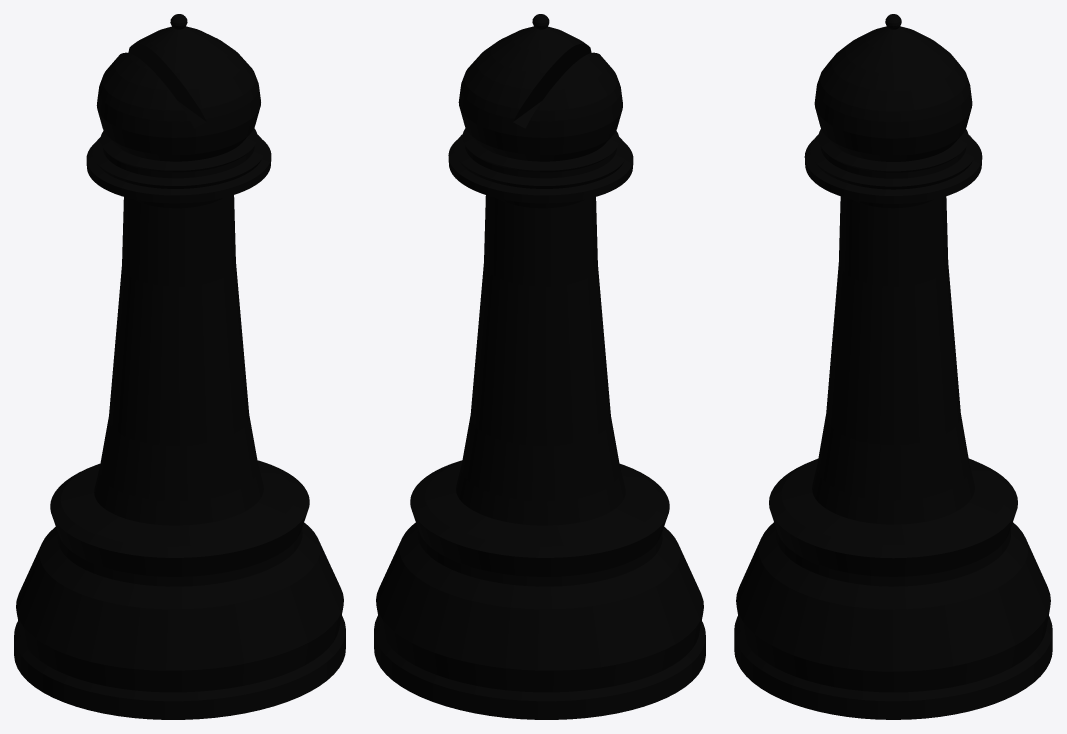
Rendered from BishopB.glb.
3 renders of one model, left to right at view 1: azimuth 30°, elevation 25°; view 2: azimuth 150°, elevation 25°; view 3: azimuth 270°, elevation 25°, orthographic.
Parts seen in each view (by area): view 1: RookA8; view 2: RookA8; view 3: RookA8.
Part boxes in pixels (<box>): RookA8: <box>14,14,345,719</box>; RookA8: <box>374,14,705,719</box>; RookA8: <box>734,14,1052,719</box>.
Size of the model in its own units: 0.8227 by 1.72 by 0.7842.
1 material, 1 textured.
